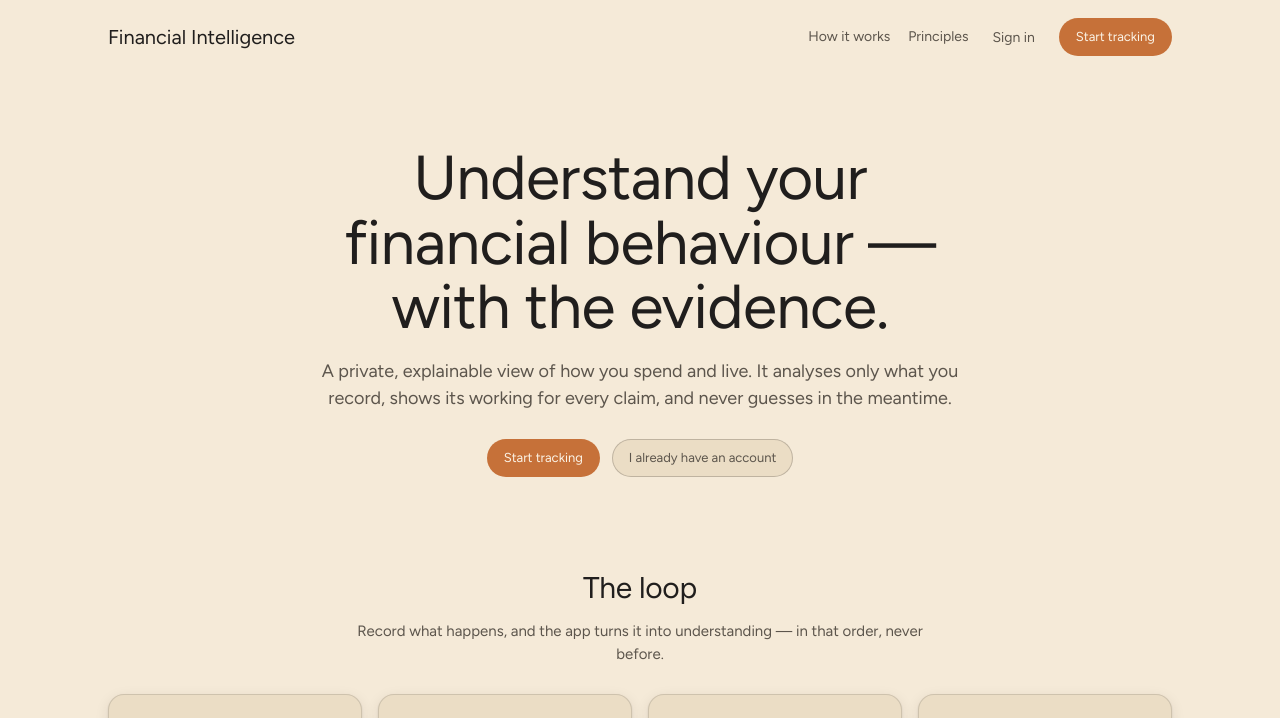
Test: the login gate › shows the sign-in screen when there is no session
Click the button "Sign in": coordinates (1014, 37) [986,28,1041,47]
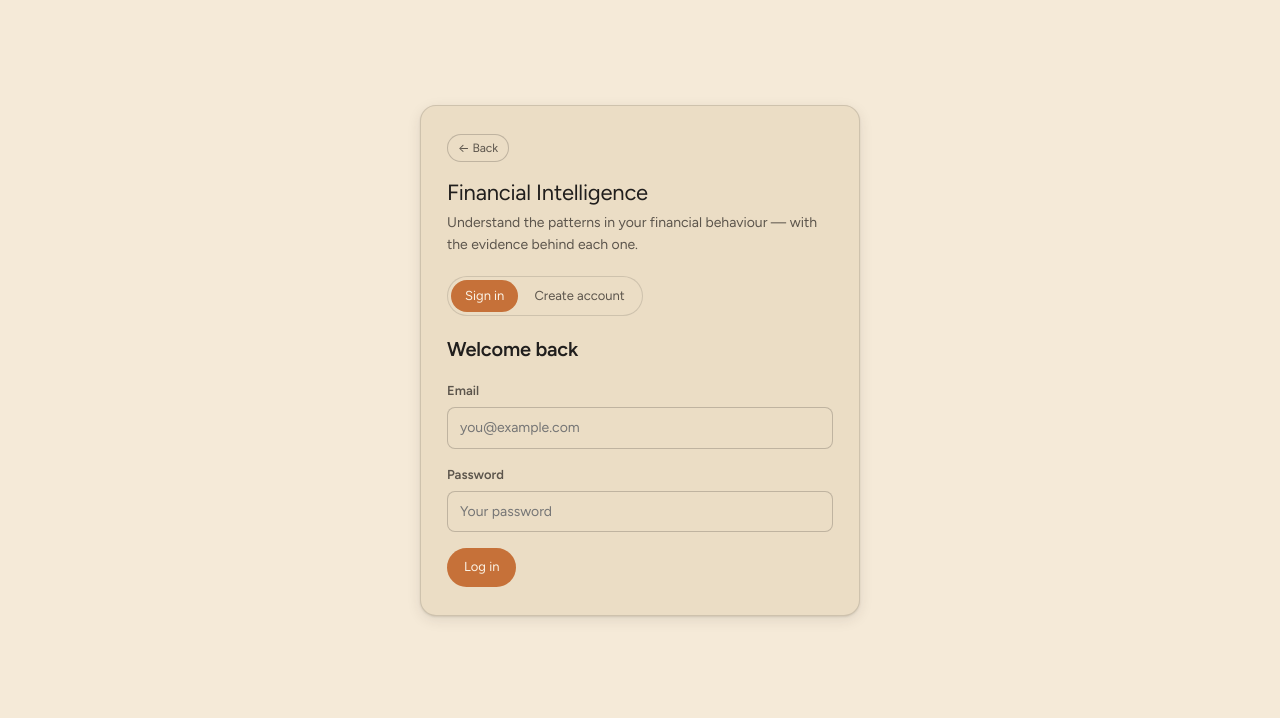
Now the heading "Welcome back" is shown, box [447,337,578,361]
